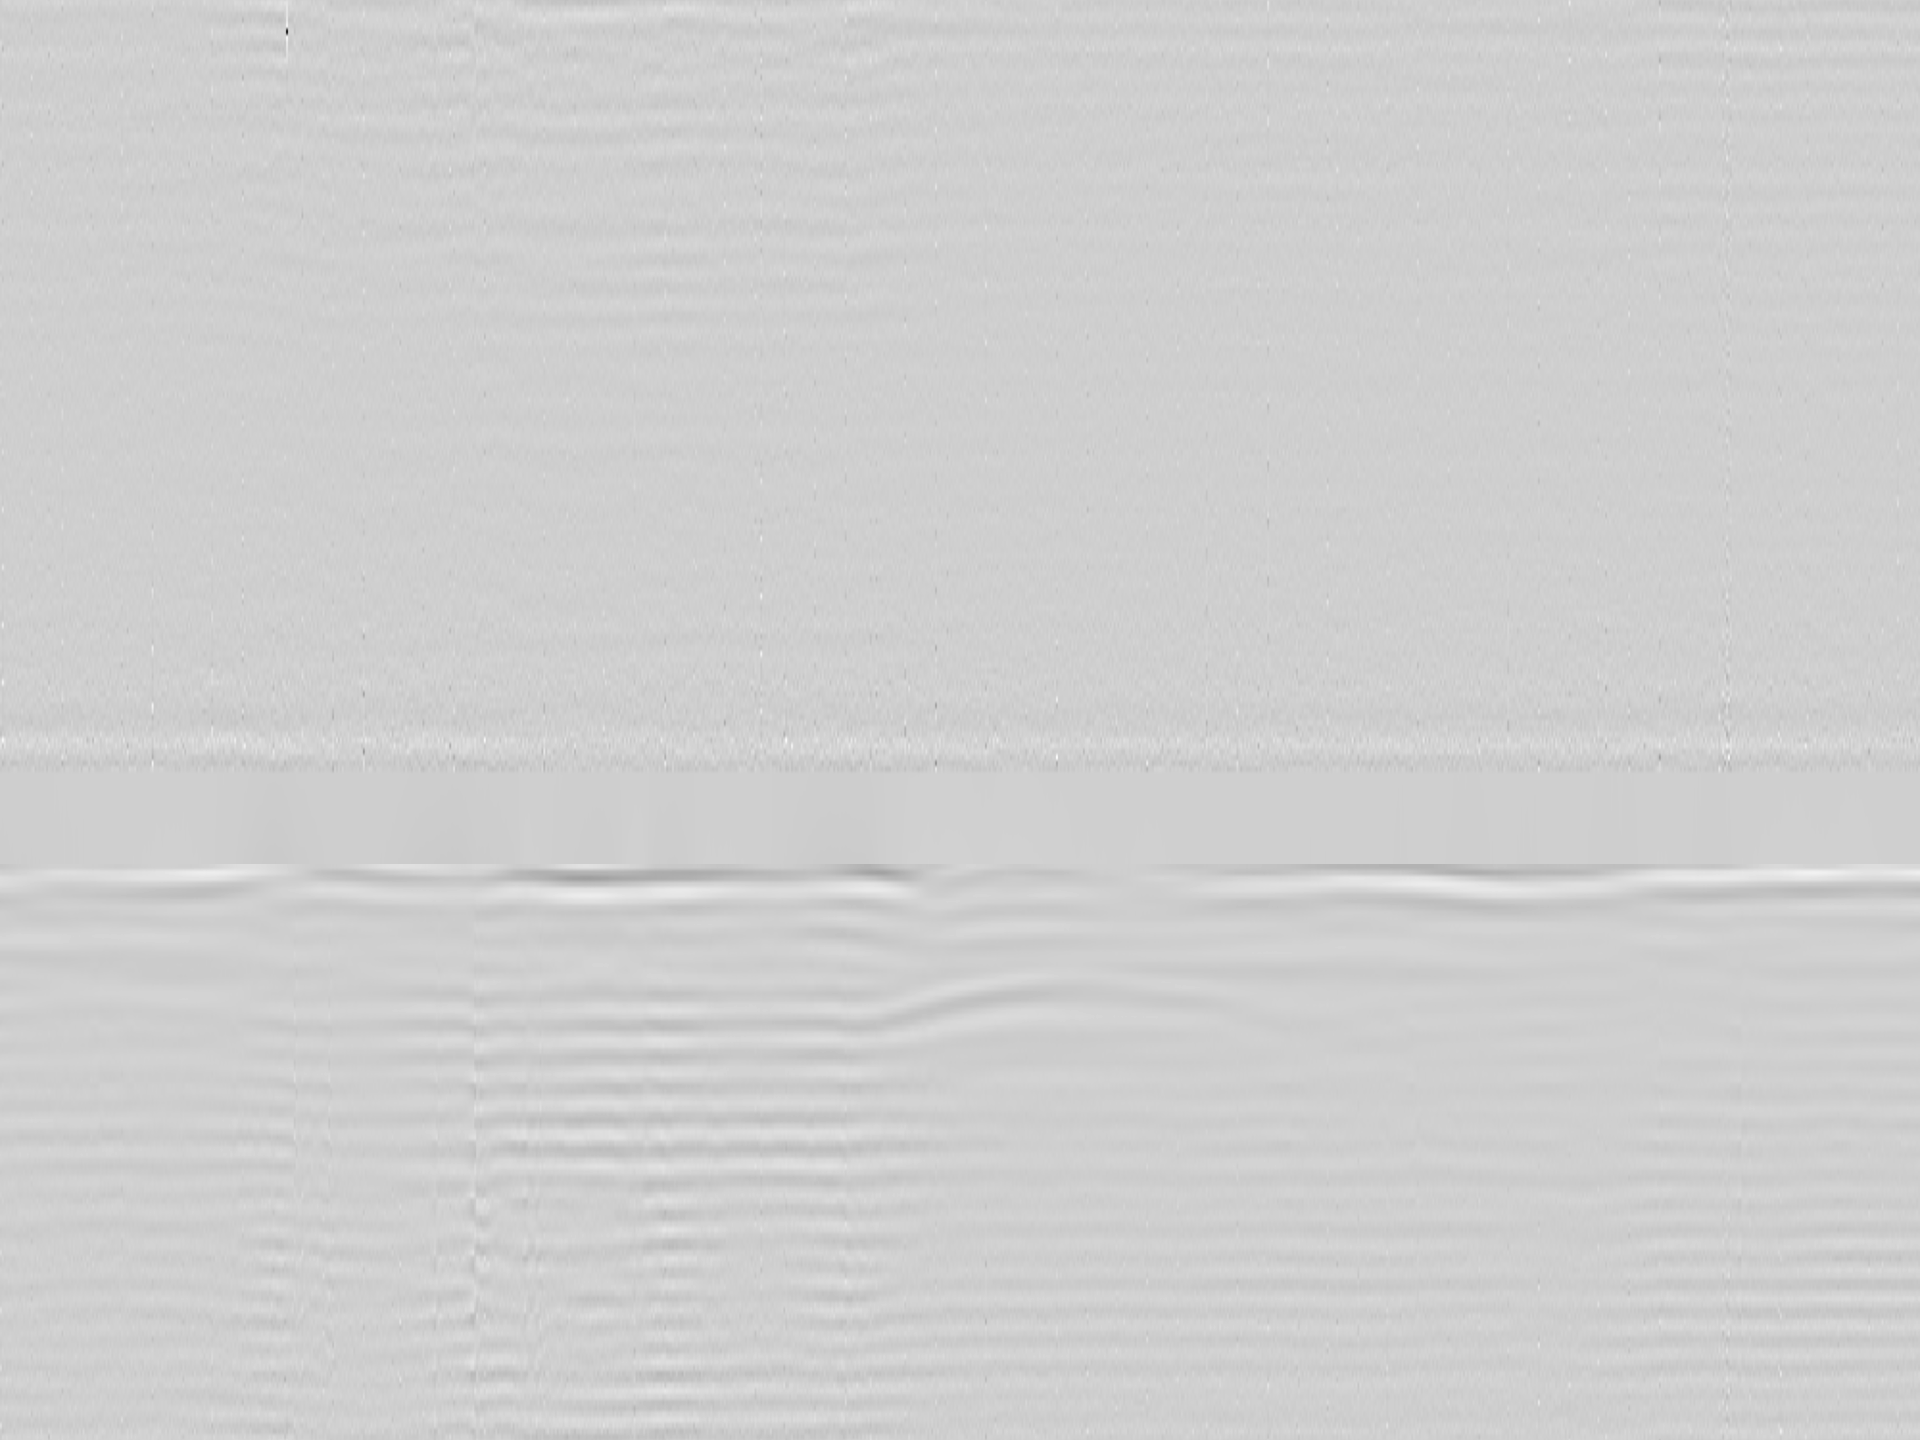Tunnel: (851, 965, 1356, 1051)
